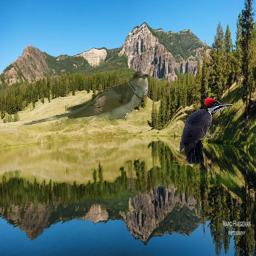Cuckoo: (20, 69, 149, 128)
Woodpecker: (177, 97, 234, 164)
